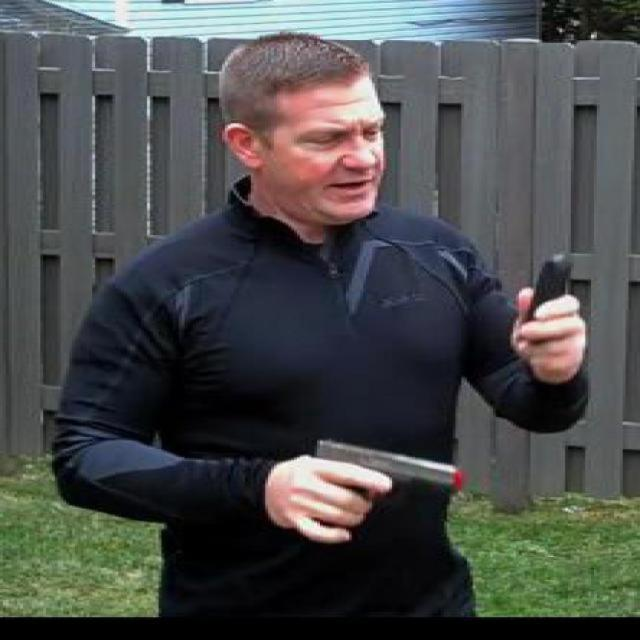pistol: (302, 436, 462, 542)
